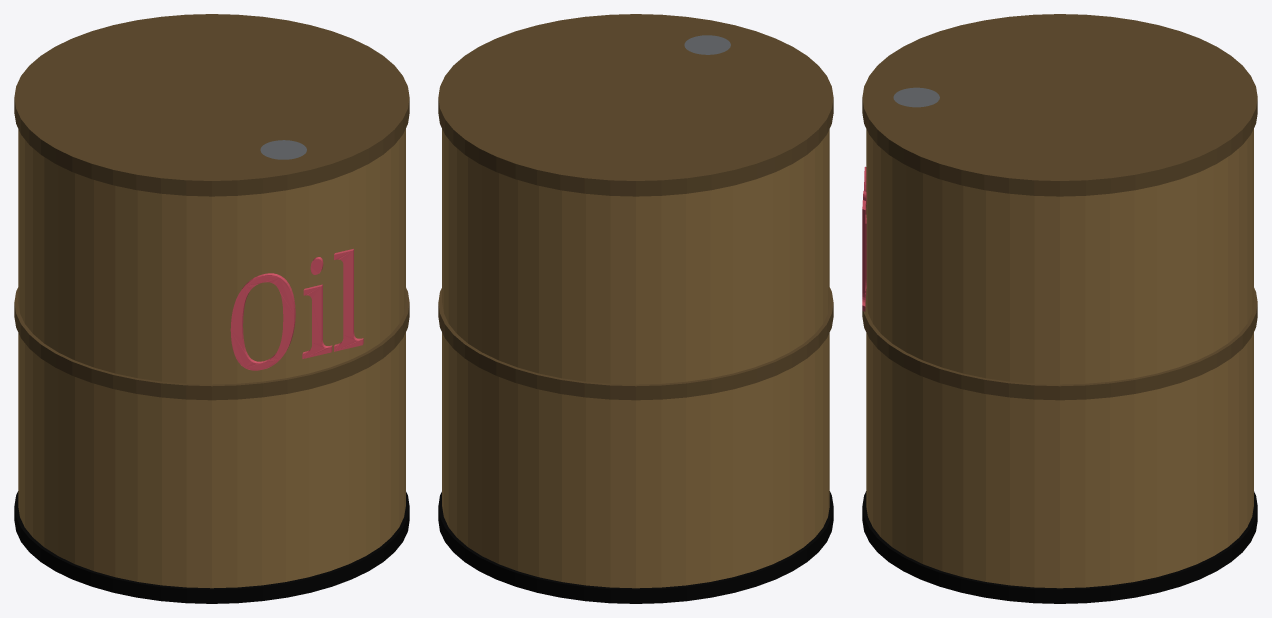
File: oil3.glb
3 renders of one model, left to right at view 1: azimuth 30°, elevation 25°; view 2: azimuth 150°, elevation 25°; view 3: azimuth 270°, elevation 25°, orthographic.
Visible parts, largest first — view 1: Mesh_Mesh_head_geo.001_lambert2SG.001; view 2: Mesh_Mesh_head_geo.001_lambert2SG.001; view 3: Mesh_Mesh_head_geo.001_lambert2SG.001.
Part boxes in pixels (x1,y1,x2,y2): Mesh_Mesh_head_geo.001_lambert2SG.001: (14,14,409,603); Mesh_Mesh_head_geo.001_lambert2SG.001: (438,14,833,603); Mesh_Mesh_head_geo.001_lambert2SG.001: (862,14,1257,603).
Bounding box in the file's own units: 2.54 × 3 × 2.54.
